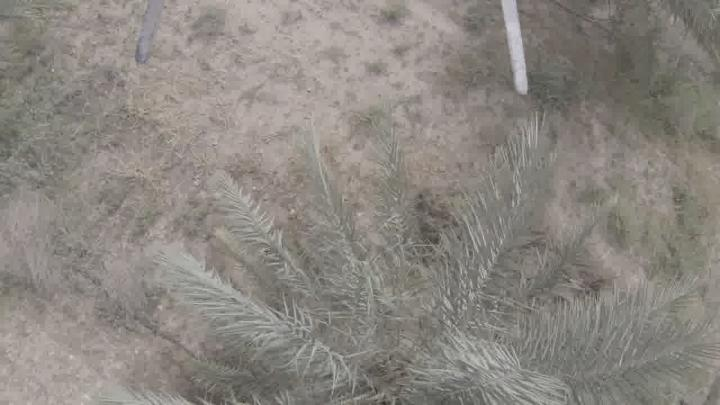Date-Palm-Crown: (242, 230, 534, 404)
